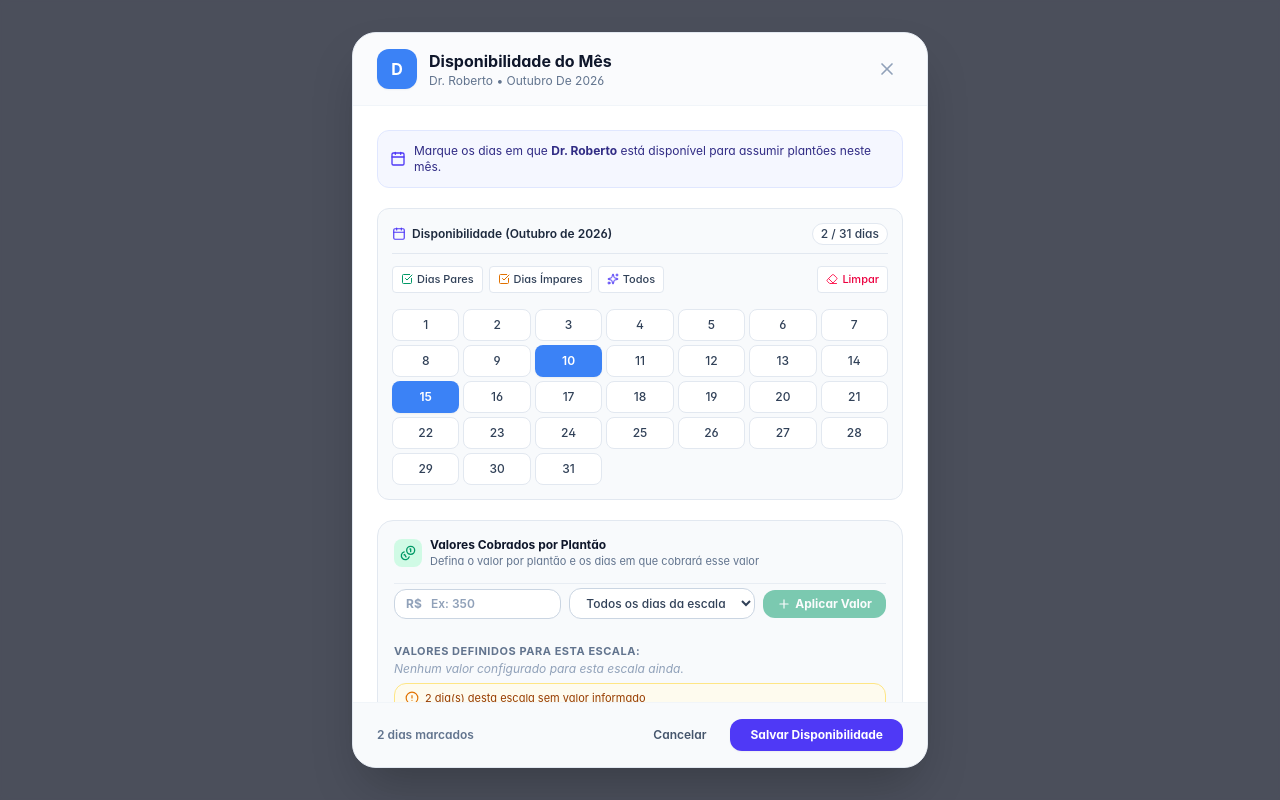
Scenario: MonthAvailabilityModal › warns about calendar removal only when a saved day is removed, and hides it when re-added
Adding a new day (20) does not show the warning
Click the button "20": (783,396) [749,380,816,412]
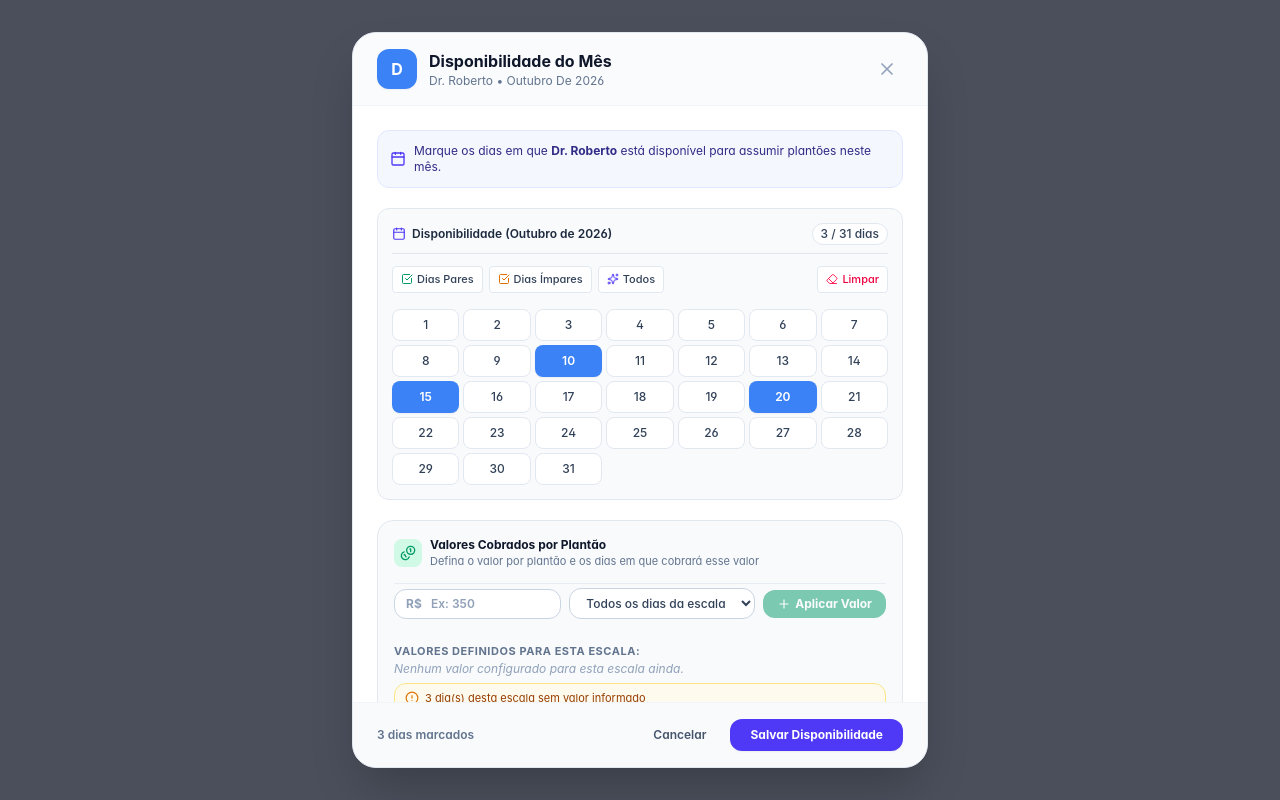
Removing a saved day (10) shows the warning
Click the button "10": (568,360) [535,344,602,376]
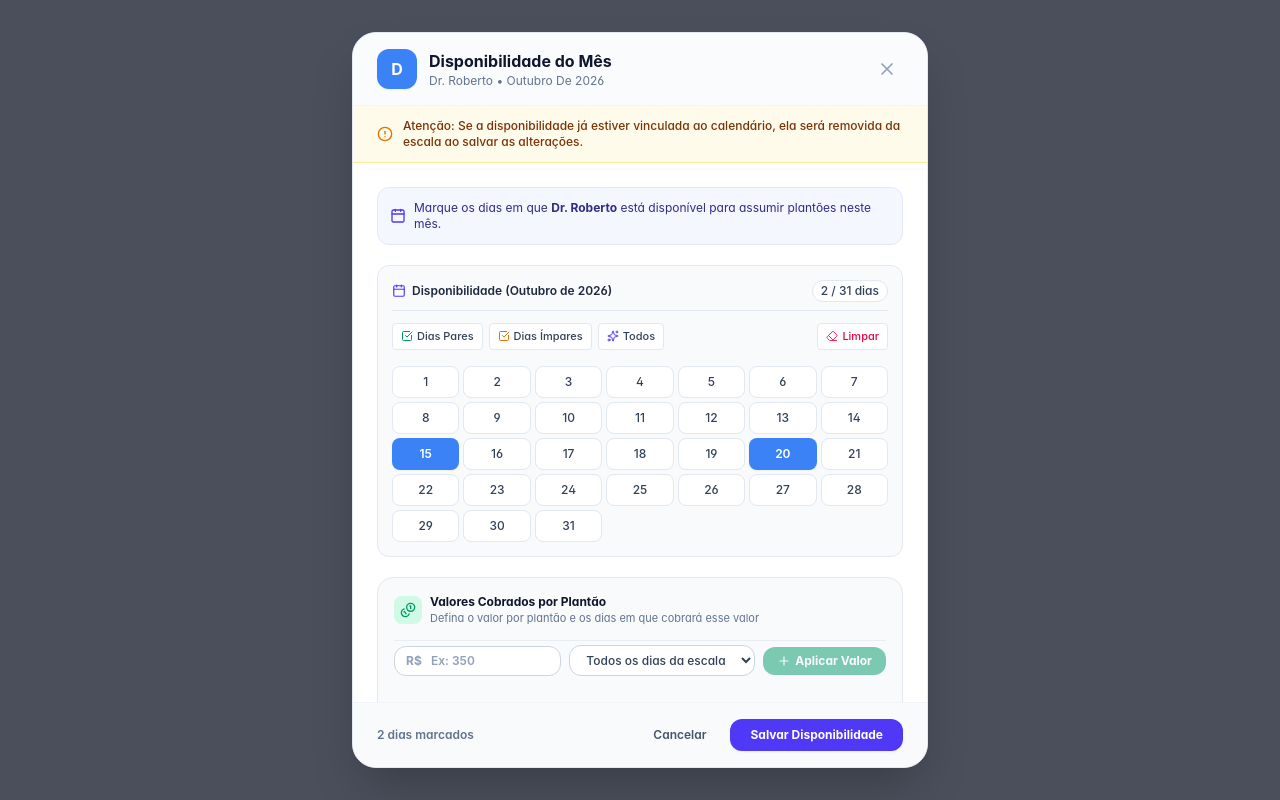
Expected: the message with test id "availability-calendar-removal-warning" is shown, [353,106,927,163]
Expected: the message with test id "availability-calendar-removal-warning" shows "se a disponibilidade já estiver vinculada ao calendário, ela será removida", [403,118,900,149]
Re-adding day 10 hides the warning again (even with day 20 added)
Click the button "10": (568,418) [535,402,602,434]
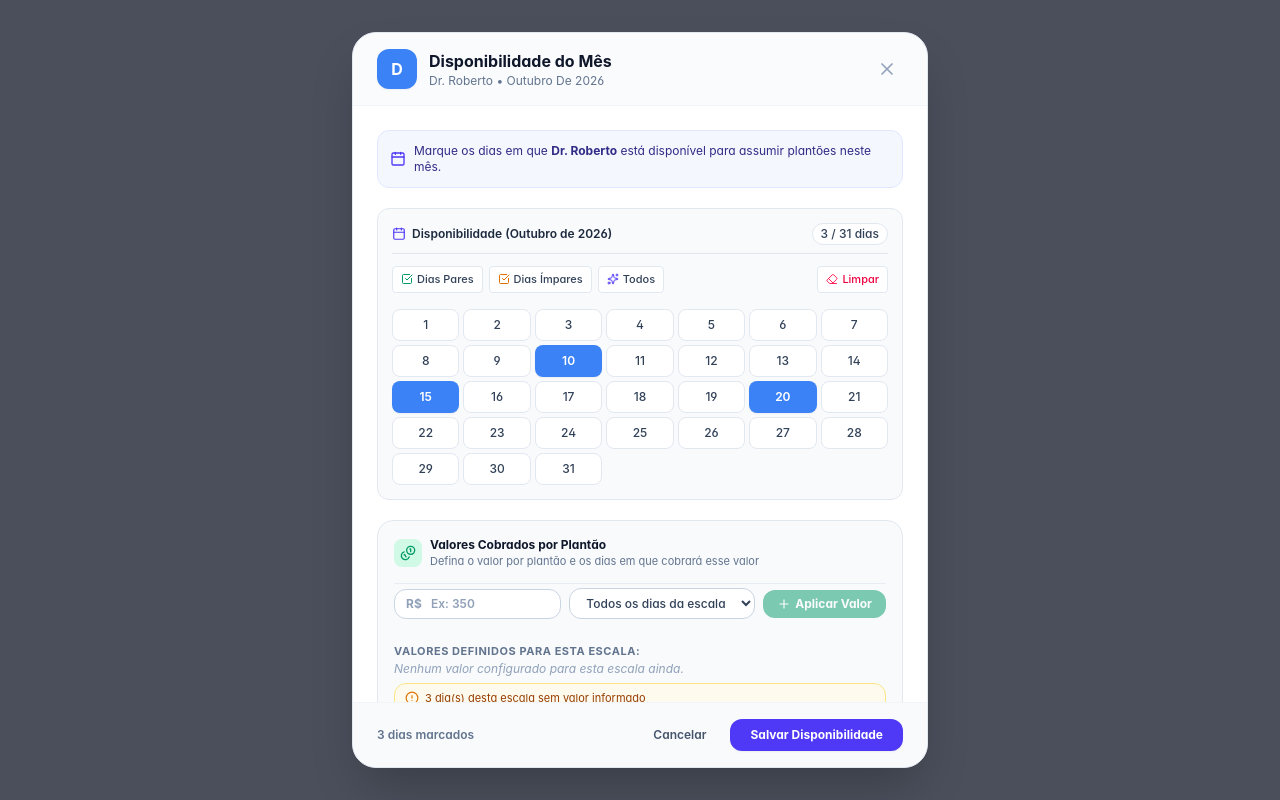
Expected: the message with test id "availability-calendar-removal-warning" is gone
